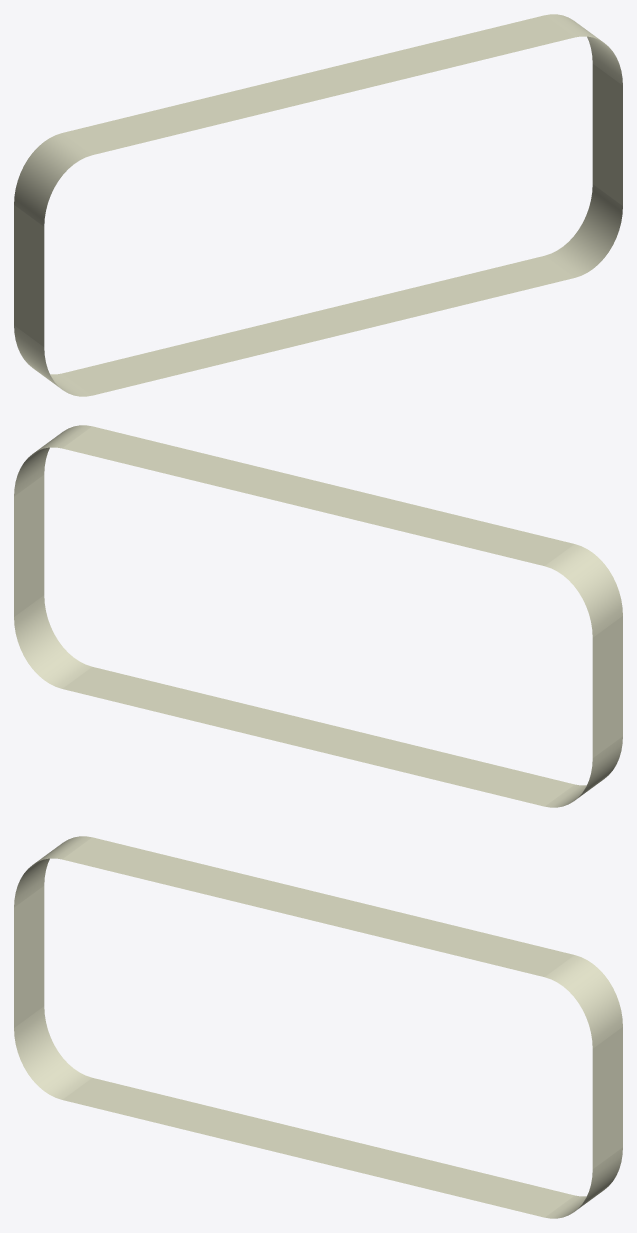
Rendered from original-100.obj.
3 renders of one model, top to bottom at view 1: azimuth 30°, elevation 25°; view 2: azimuth 150°, elevation 25°; view 3: azimuth 330°, elevation 25°, orthographic.
Parts seen in each view (by area): view 1: mesh67/mesh67-geometry/material_1/component_11#mesh67-geometry; view 2: mesh67/mesh67-geometry/material_1/component_11#mesh67-geometry; view 3: mesh67/mesh67-geometry/material_1/component_11#mesh67-geometry.
Boxes of the visible parts, box(x1,y1,x2,y2) form: mesh67/mesh67-geometry/material_1/component_11#mesh67-geometry: box(14, 14, 622, 396); mesh67/mesh67-geometry/material_1/component_11#mesh67-geometry: box(14, 425, 622, 807); mesh67/mesh67-geometry/material_1/component_11#mesh67-geometry: box(14, 836, 622, 1218).
Size of the model in its own units: 0.1581 by 0.0628 by 0.0144.
